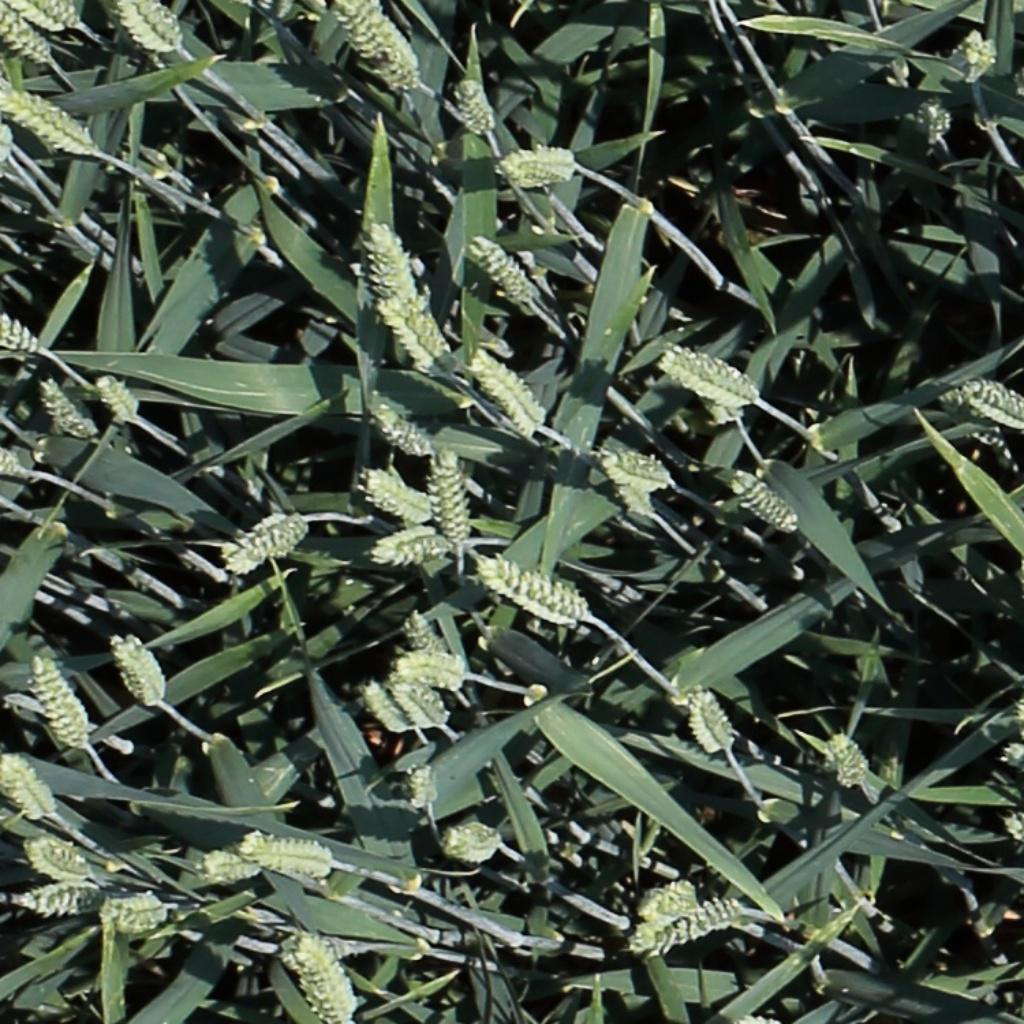0-0: (618, 903, 745, 959), (469, 346, 546, 435), (479, 559, 589, 619), (293, 931, 359, 1021), (28, 652, 87, 752), (0, 86, 92, 150), (370, 212, 423, 316), (376, 292, 441, 374), (466, 232, 537, 305), (330, 1, 407, 65), (223, 517, 311, 572), (394, 296, 456, 370), (110, 632, 167, 712), (35, 372, 99, 442), (664, 352, 757, 400), (733, 469, 802, 533), (624, 868, 693, 932), (0, 752, 58, 827), (392, 677, 465, 734), (236, 830, 334, 872), (370, 398, 435, 458), (108, 0, 181, 53), (364, 469, 436, 522), (98, 886, 172, 937), (690, 686, 740, 761), (684, 362, 744, 423), (372, 519, 458, 561), (12, 876, 107, 914), (602, 457, 658, 521), (436, 439, 468, 548), (497, 145, 577, 188), (398, 642, 458, 698), (351, 683, 406, 743), (0, 0, 50, 65), (945, 30, 1005, 84), (945, 387, 1000, 445), (454, 73, 501, 139), (92, 368, 143, 427), (827, 727, 871, 794), (404, 615, 449, 676), (385, 36, 428, 98), (0, 286, 39, 353), (27, 842, 91, 882), (197, 848, 270, 883), (610, 453, 674, 484), (16, 0, 84, 29), (970, 378, 1024, 414), (922, 92, 950, 150), (410, 759, 435, 817), (0, 446, 27, 475), (0, 106, 13, 147)
